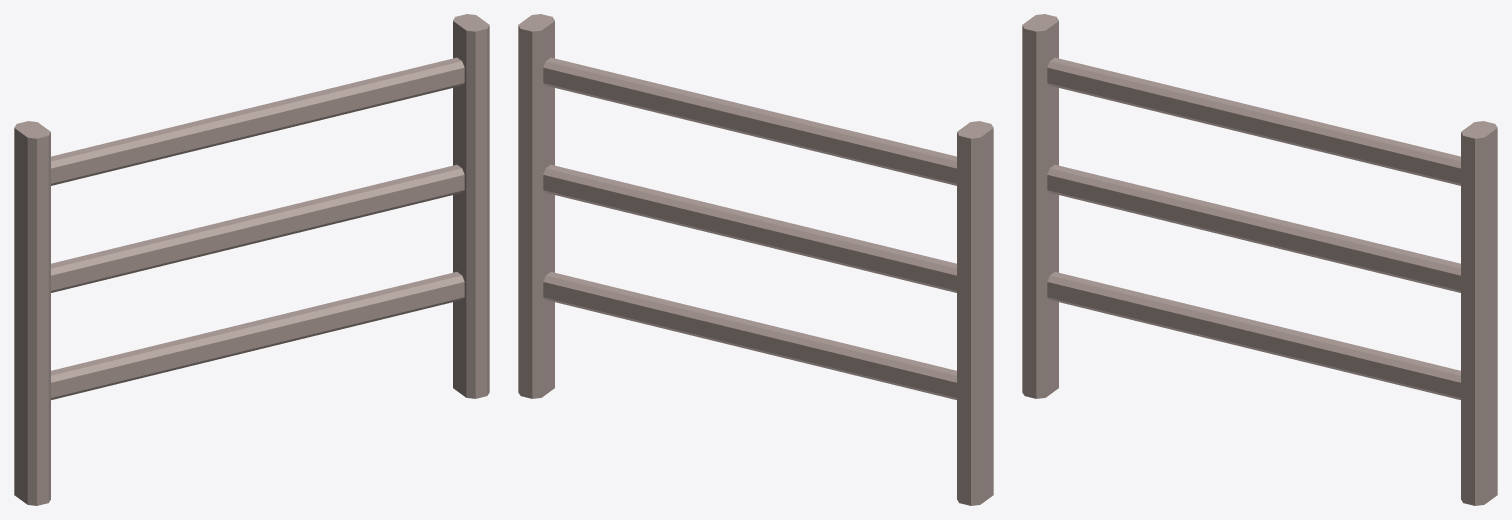
Rendered from 1021_fence_1.glb.
3 views of the same model, side by side, from view 1: azimuth 30°, elevation 25°; view 2: azimuth 150°, elevation 25°; view 3: azimuth 330°, elevation 25° (orthographic).
Visible parts, largest first — view 1: Body; view 2: Body; view 3: Body.
Part boxes in pixels (box(x1,y1,x2,y2)): Body: box(14, 14, 489, 505); Body: box(518, 14, 993, 505); Body: box(1022, 14, 1497, 505).
Size of the model in its own units: 1.58 by 1.2 by 0.12.
